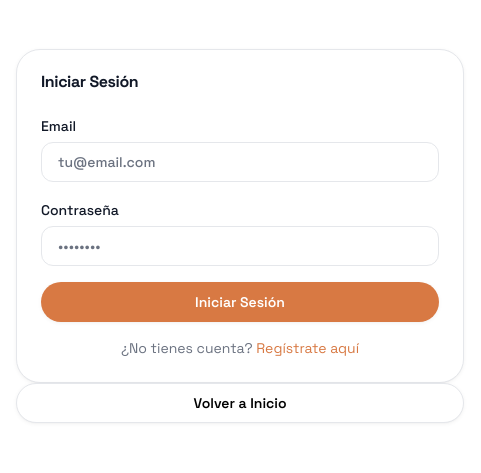
Test: LoginPage › should handle login error
In the field with placeholder "tu@email.com": (240, 162) [41,142,439,182], type "test@example.com"
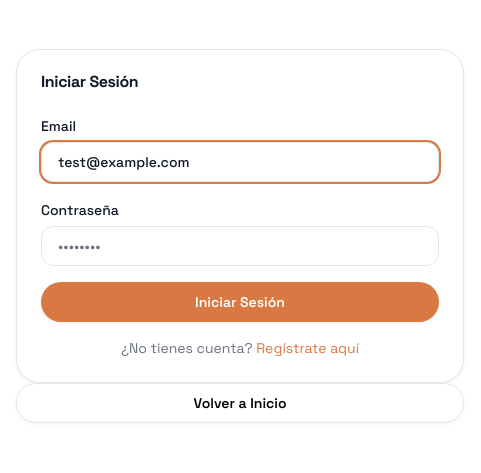
In the password field with placeholder "••••••••": (240, 246) [41,226,439,266], type "wrongpass"
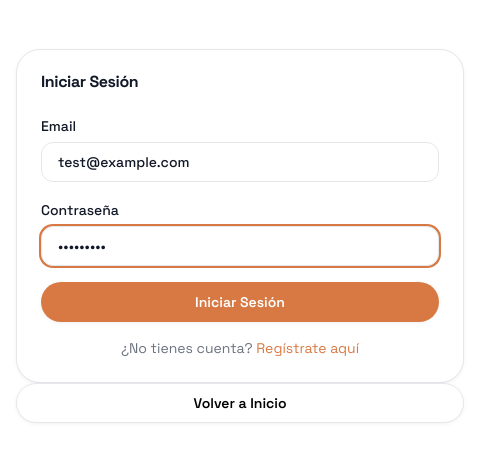
Click the button "Iniciar Sesión": click(240, 302) [41,282,439,322]
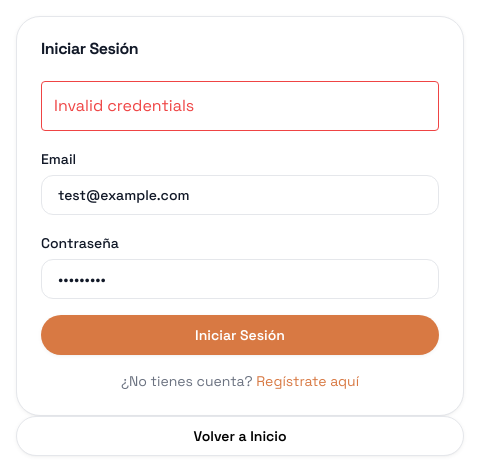
Expected: the text "Invalid credentials" is shown, [41,81,439,131]
